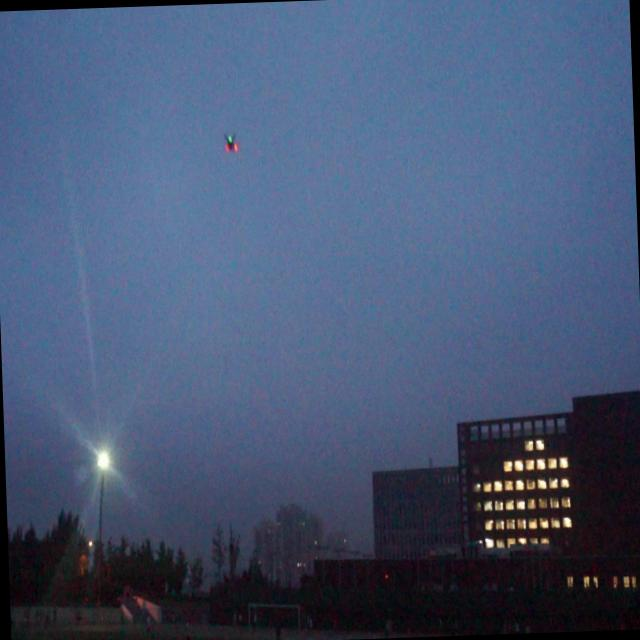drone: (220, 129, 240, 154)
